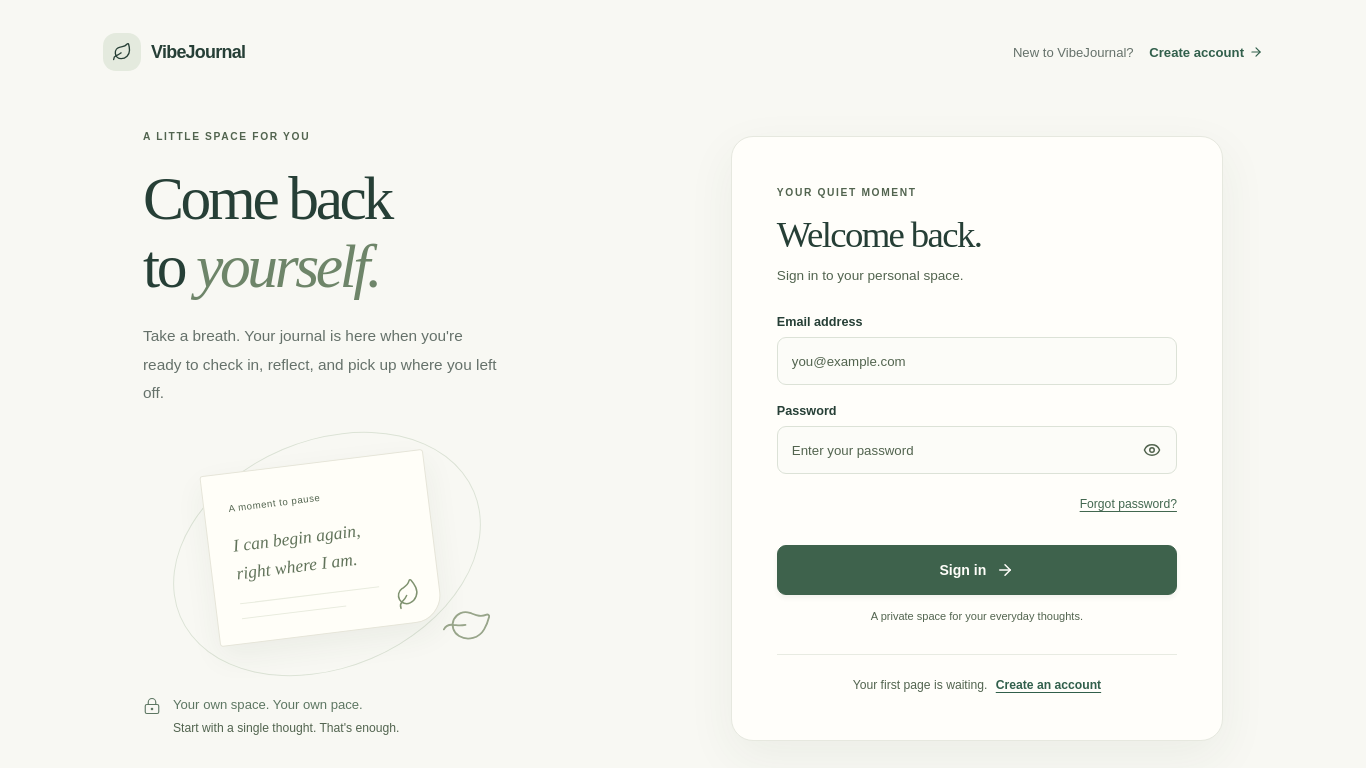
Scenario: sign-in form › explains invalid fields before attempting sign-in
Type "invalid" into the field labelled "Email address". click: (977, 360)
box: [777,336,1177,384]
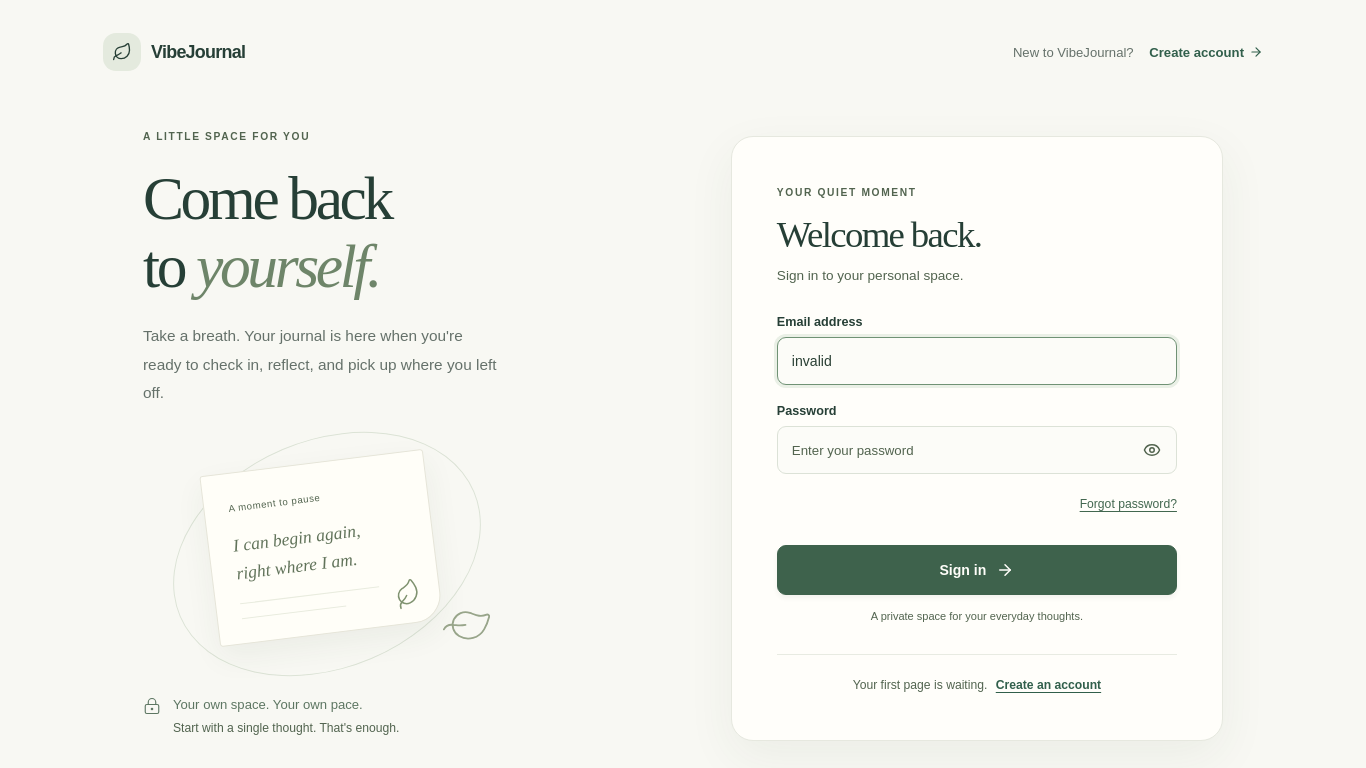
Click the button "Sign in". click: (977, 570)
box: [777,544,1177,594]
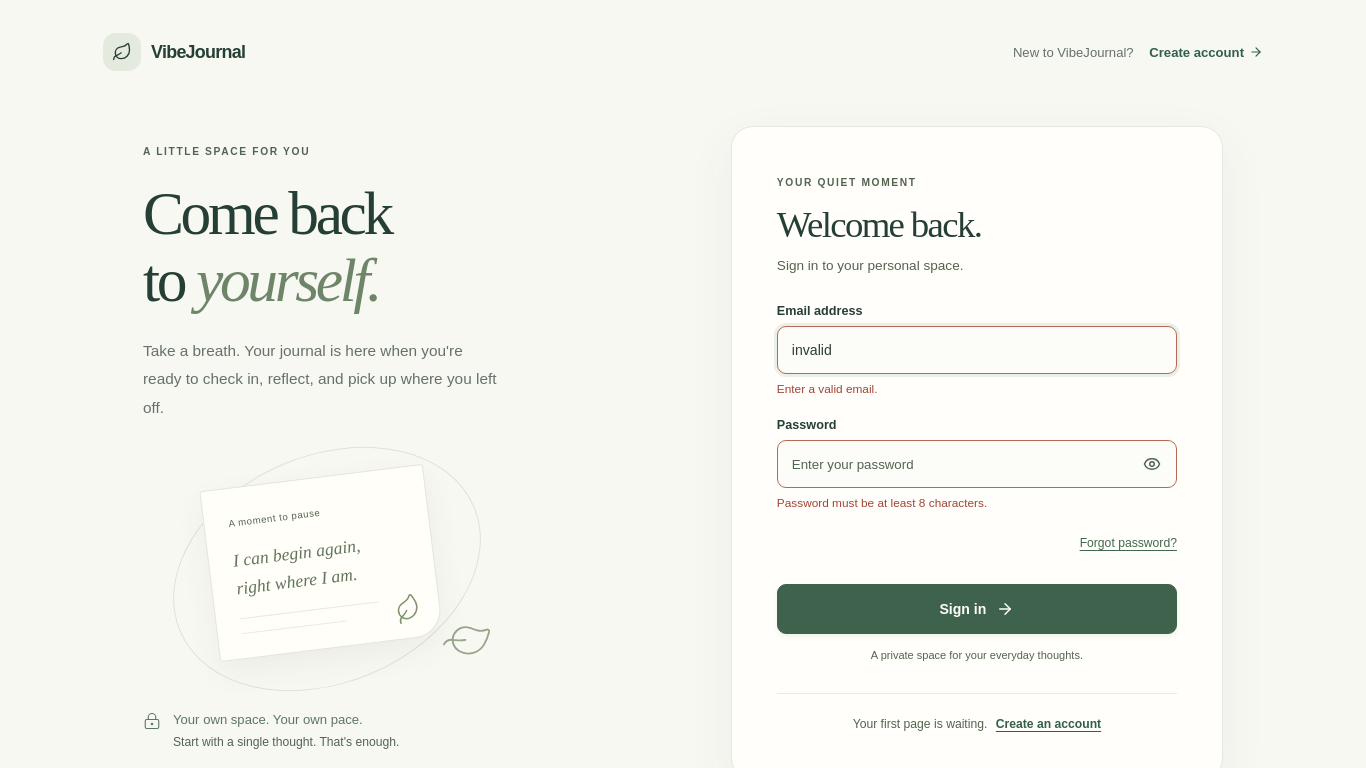
Now the text "Enter a valid email." is shown, box [777,382,878,396]
Now the text "Password must be at least 8 characters." is shown, box [777,496,987,510]
